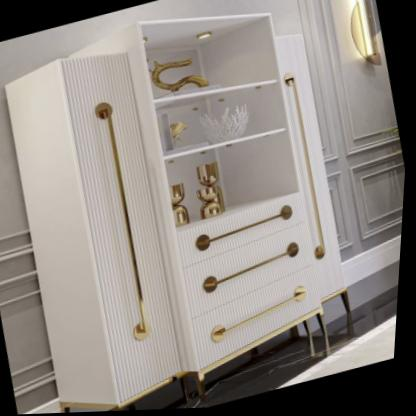Cupboard: (0, 0, 376, 416)
